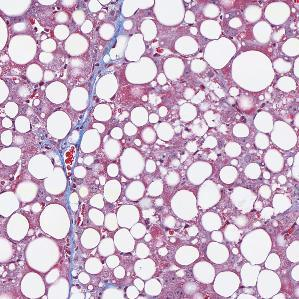fibrosis: (65, 222, 83, 289), (81, 88, 101, 135)
